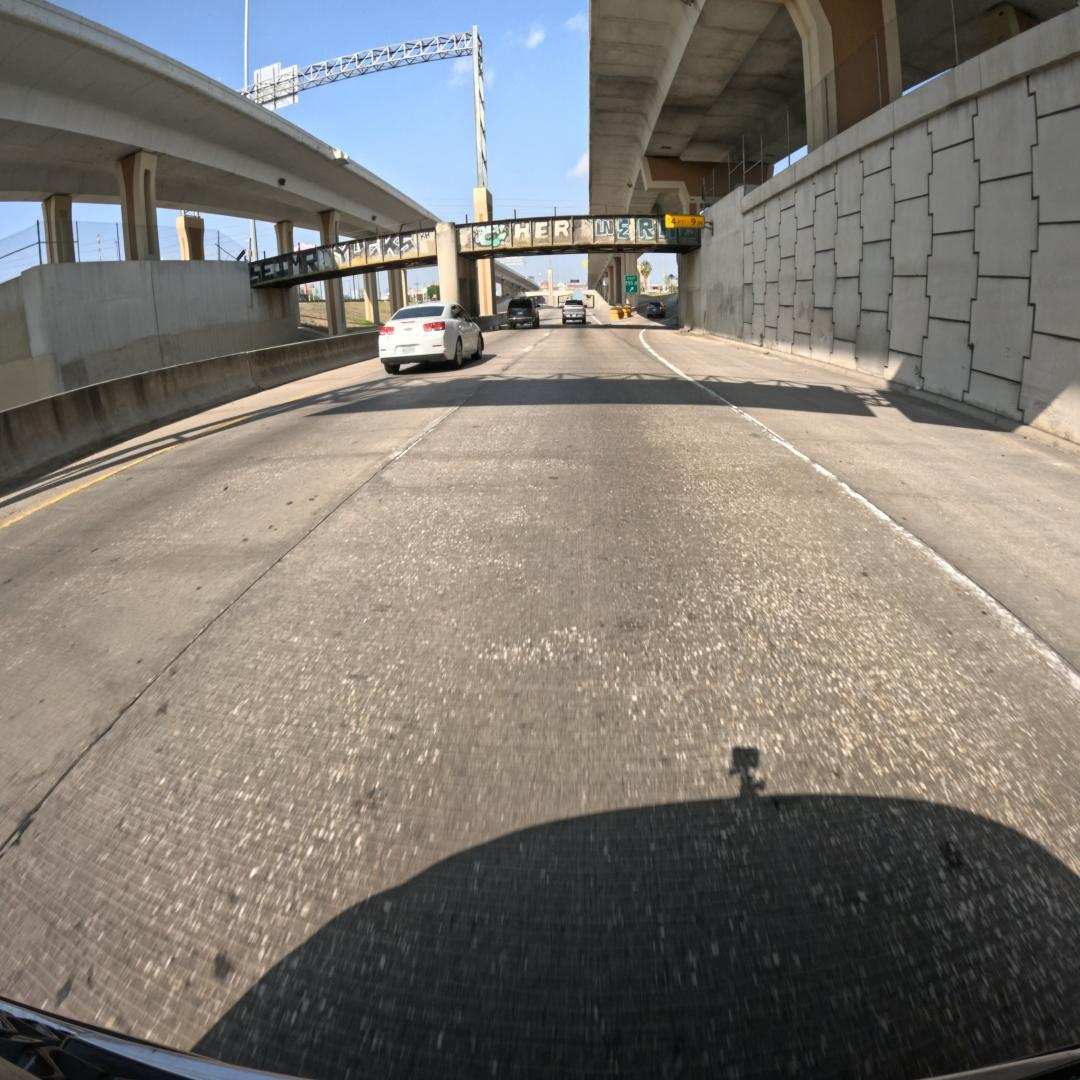lane0: (0, 329, 1080, 1080)
lane1: (0, 327, 552, 851)
